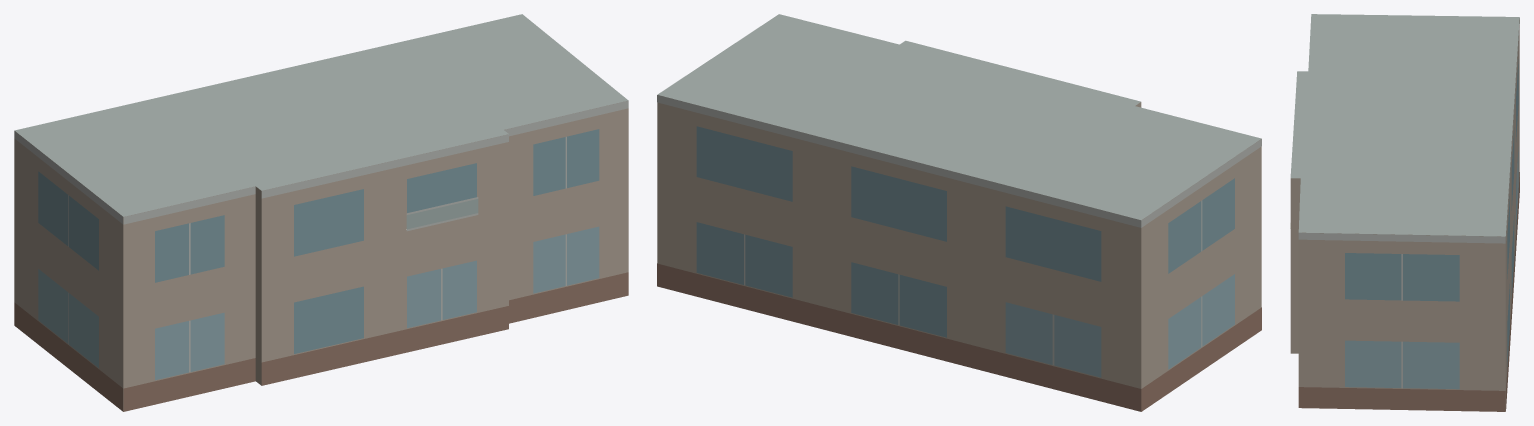
Rendered from survey-upis-32704174.glb.
3 renders of one model, left to right at view 1: azimuth 30°, elevation 25°; view 2: azimuth 150°, elevation 25°; view 3: azimuth 270°, elevation 25°, orthographic. The views are drawn at different scales.
Parts seen in each view (by area): view 1: survey-upis-32704174.tmp; view 2: survey-upis-32704174.tmp; view 3: survey-upis-32704174.tmp.
Part boxes in pixels (x1,y1,x2,y2): survey-upis-32704174.tmp: (14,14,628,411); survey-upis-32704174.tmp: (657,14,1261,411); survey-upis-32704174.tmp: (1290,14,1519,411).
Size of the model in its own units: 16.61 by 6.1 by 7.24.
